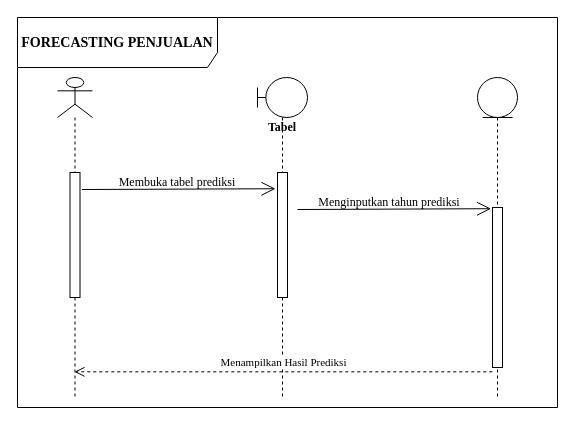
This 575x425 diagram has some shape labels left out. The shapes that lost their labels are listed below. From the top down, each one's box as (x1, y1, x2, y2) in pixels, then its label:
(56, 76, 92, 398): User
(476, 76, 518, 398): Proses
